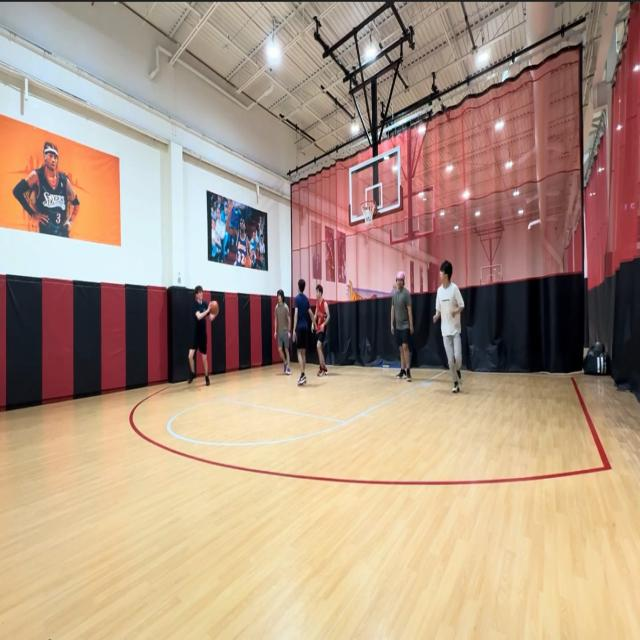Basketball: (210, 300, 218, 314)
Basketball Rim: (359, 200, 376, 227)
Player: (432, 261, 464, 393), (188, 285, 218, 386), (391, 270, 415, 382), (292, 279, 317, 383), (312, 283, 329, 376), (274, 289, 292, 376)
